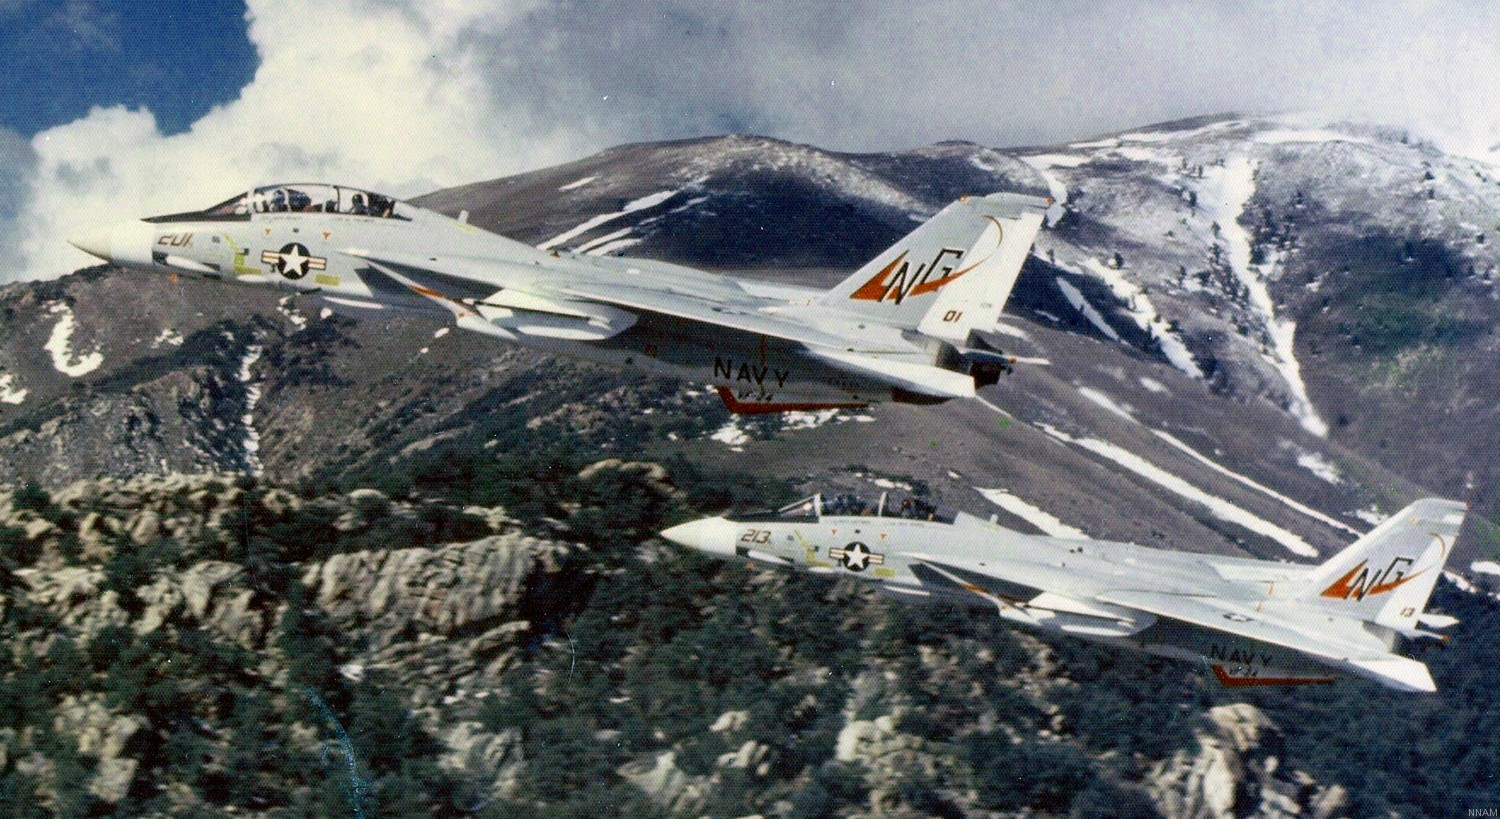F14: (64, 180, 1054, 414), (659, 491, 1472, 693)
